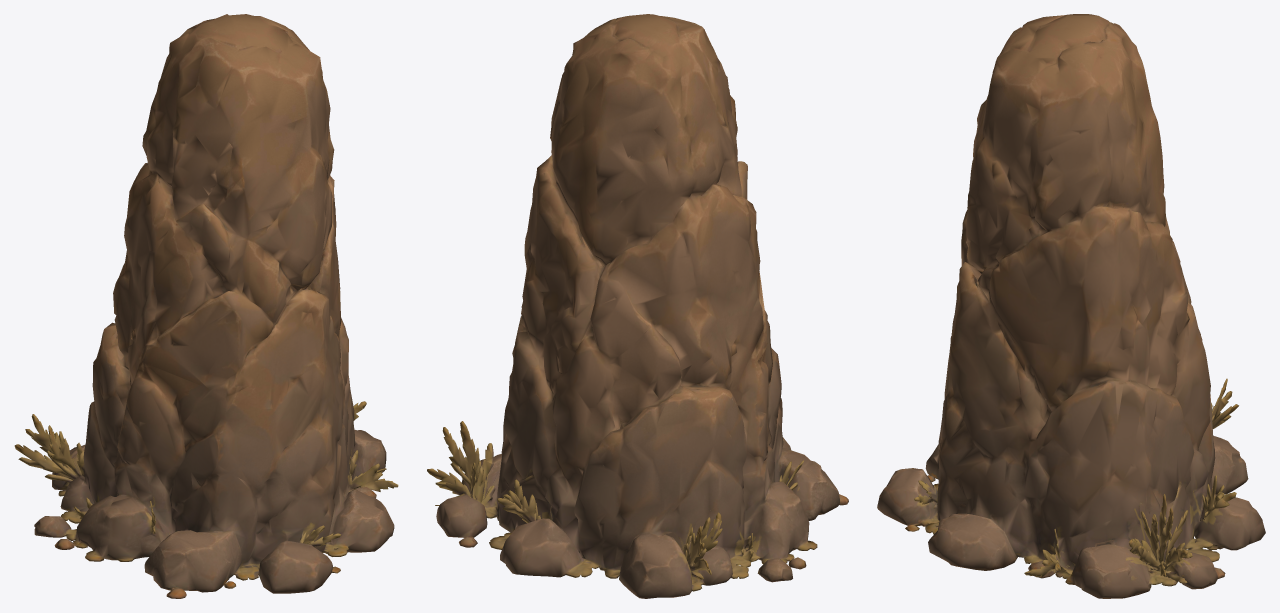
Rendered from monolito_de_roca_2.glb.
The picture shows the model from 3 angles, left to right: view 1: azimuth 30°, elevation 25°; view 2: azimuth 150°, elevation 25°; view 3: azimuth 270°, elevation 25°; orthographic projection.
Parts seen in each view (by area): view 1: monolito_de_roca_2; view 2: monolito_de_roca_2; view 3: monolito_de_roca_2.
Boxes of the visible parts, box(x1,y1,x2,y2) form: monolito_de_roca_2: box(14, 14, 398, 598); monolito_de_roca_2: box(427, 14, 848, 598); monolito_de_roca_2: box(877, 14, 1265, 598).
Size of what is drawn, in the model's own units: 2.86 by 4 by 2.82.
1 material, 1 textured.
